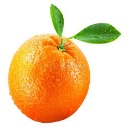orange: (7, 25, 95, 126)
